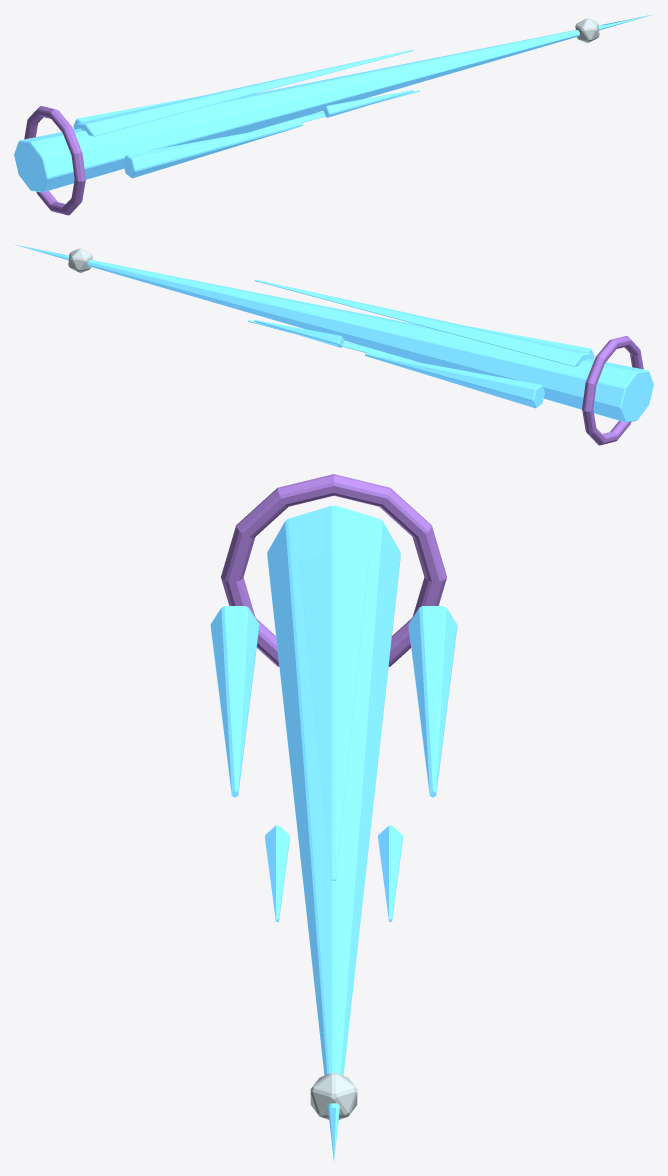
Rendered from SM_CrystalDreadnought.fbx.
3 renders of one model, top to bottom at view 1: azimuth 30°, elevation 25°; view 2: azimuth 150°, elevation 25°; view 3: azimuth 270°, elevation 25°, orthographic. The views are drawn at different scales.
Parts seen in each view (by area): view 1: SM_CrystalDreadnought; view 2: SM_CrystalDreadnought; view 3: SM_CrystalDreadnought.
Boxes of the visible parts, x1=… form: SM_CrystalDreadnought: x1=14, y1=14, x2=652, y2=215; SM_CrystalDreadnought: x1=15, y1=244, x2=653, y2=445; SM_CrystalDreadnought: x1=210, y1=474, x2=457, y2=1160.
Bounding box in the file's own units: 1019 × 160 × 174.
